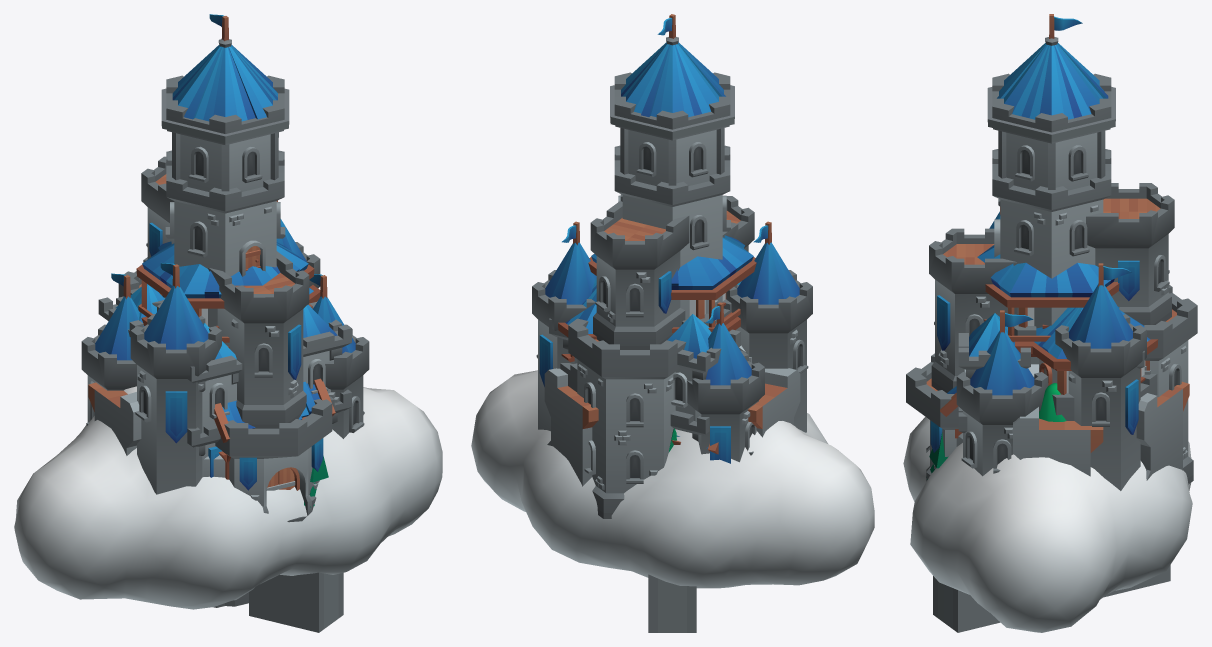
Rendered from medieval.glb.
The picture shows the model from 3 angles, left to right: view 1: azimuth 30°, elevation 25°; view 2: azimuth 150°, elevation 25°; view 3: azimuth 270°, elevation 25°; orthographic projection. The views are drawn at different scales.
Visible parts, largest first — view 1: building_castle_blue, cloud_big, building_barracks_blue, building_bridge_A, building_tower_B_top_blue, wall_corner_A_outside, building_watermill_blue; view 2: building_castle_blue, cloud_big, wall_corner_A_outside, building_tower_B_top_blue, building_barracks_blue, building_bridge_A, building_archeryrange_blue; view 3: building_castle_blue, cloud_big, building_tower_B_top_blue, wall_corner_A_outside, wall_straight, building_archeryrange_blue, building_bridge_A, building_barracks_blue, wall_straight_gate, trees_B_medium.
Boxes of the visible parts, box(x1,y1,x2,y2) form: building_castle_blue: box(81, 14, 369, 522); cloud_big: box(14, 386, 442, 609); building_barracks_blue: box(98, 284, 351, 477); building_bridge_A: box(213, 572, 343, 632); building_tower_B_top_blue: box(136, 240, 314, 348); wall_corner_A_outside: box(88, 382, 136, 455); building_watermill_blue: box(214, 378, 335, 479); building_castle_blue: box(532, 14, 812, 518); cloud_big: box(471, 370, 874, 588); wall_corner_A_outside: box(544, 357, 800, 486); building_tower_B_top_blue: box(588, 235, 756, 332); building_barracks_blue: box(549, 281, 741, 441); building_bridge_A: box(648, 574, 696, 632); building_archeryrange_blue: box(558, 279, 718, 454); building_castle_blue: box(906, 14, 1197, 490); cloud_big: box(903, 417, 1192, 632); building_tower_B_top_blue: box(977, 245, 1119, 356); wall_corner_A_outside: box(1136, 381, 1189, 480); wall_straight: box(1013, 407, 1103, 476); building_archeryrange_blue: box(1026, 307, 1158, 420); building_bridge_A: box(933, 565, 1170, 632); building_barracks_blue: box(958, 313, 1144, 432); wall_straight_gate: box(1013, 357, 1097, 454); trees_B_medium: box(1039, 383, 1066, 421).
Size of the model in its own units: 3.61 by 4.98 by 2.28.
1 material, 1 textured.
